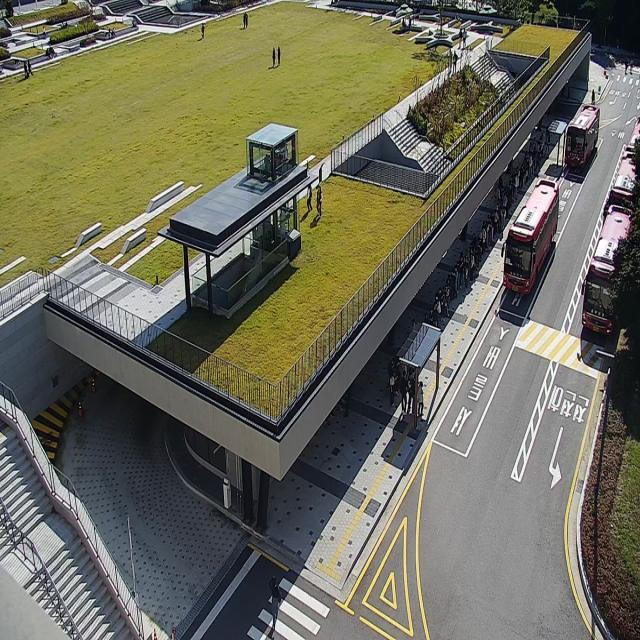queue: (414, 124, 552, 432)
